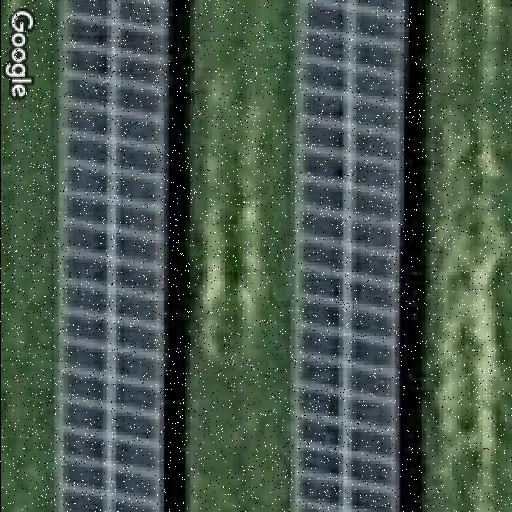solar-panel: (288, 0, 408, 512), (56, 0, 173, 512)
